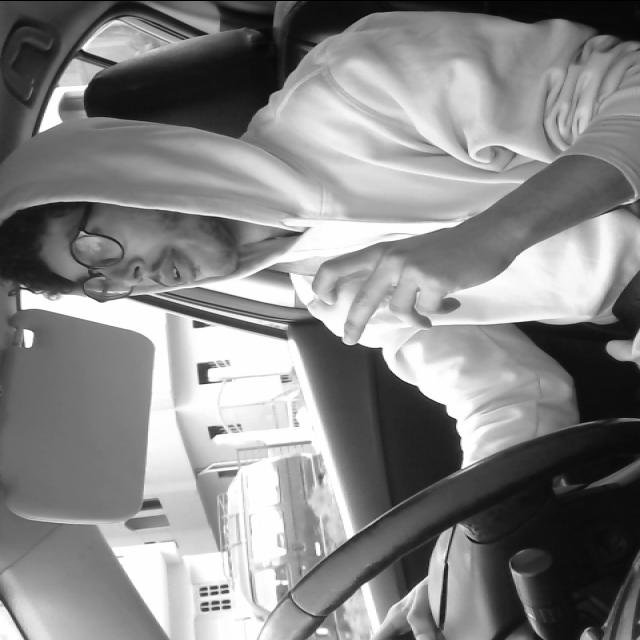eating: (298, 258, 392, 326)
